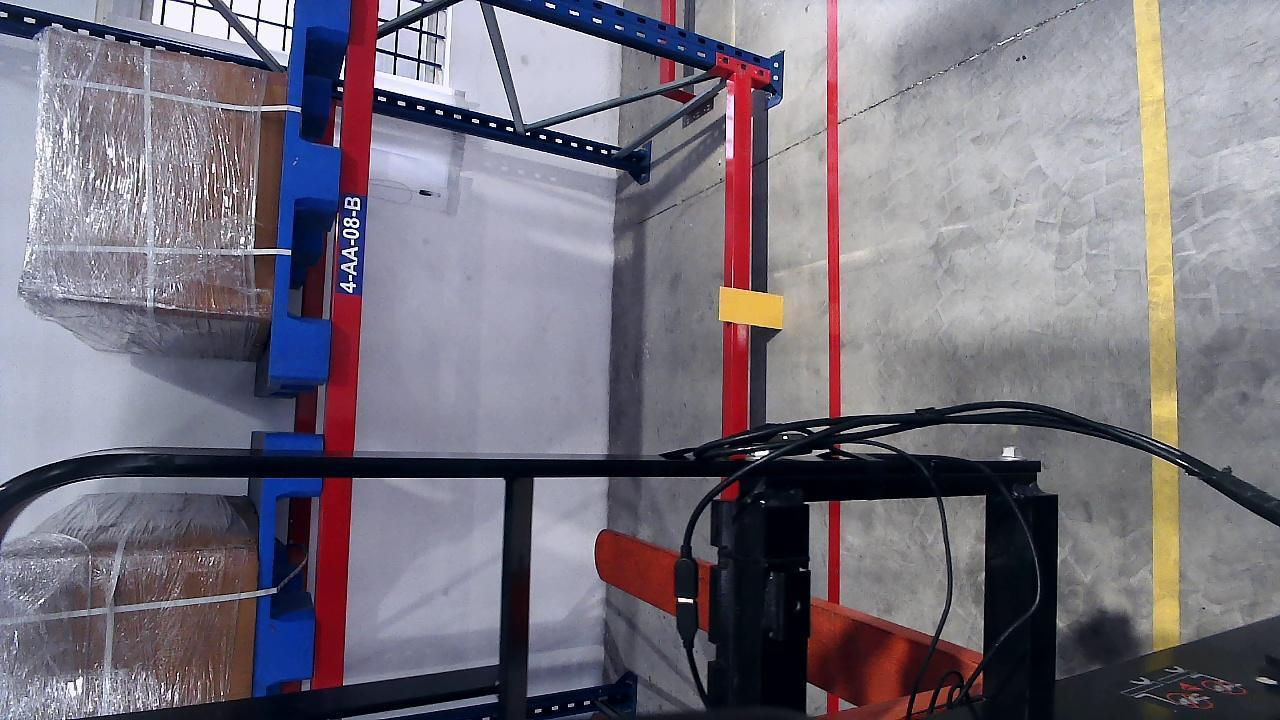red_line: (822, 73, 844, 410)
yellow_line: (1135, 1, 1181, 592)
